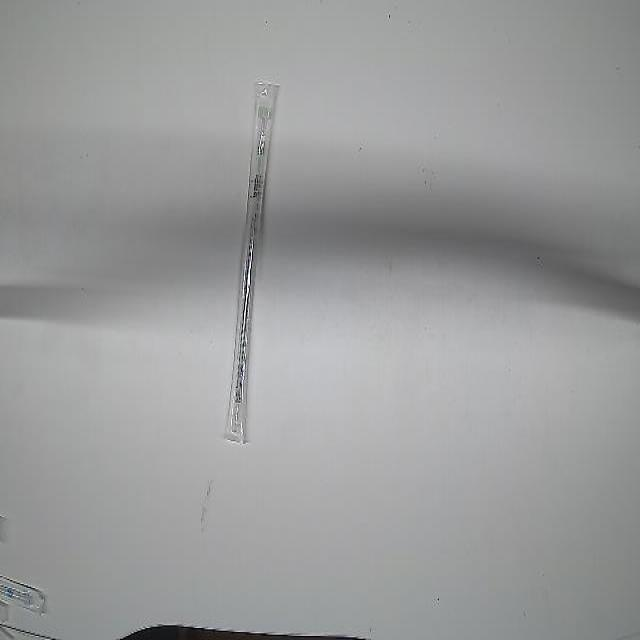Serelogical Pipet 2 mL - Sealed: (224, 71, 283, 448)
